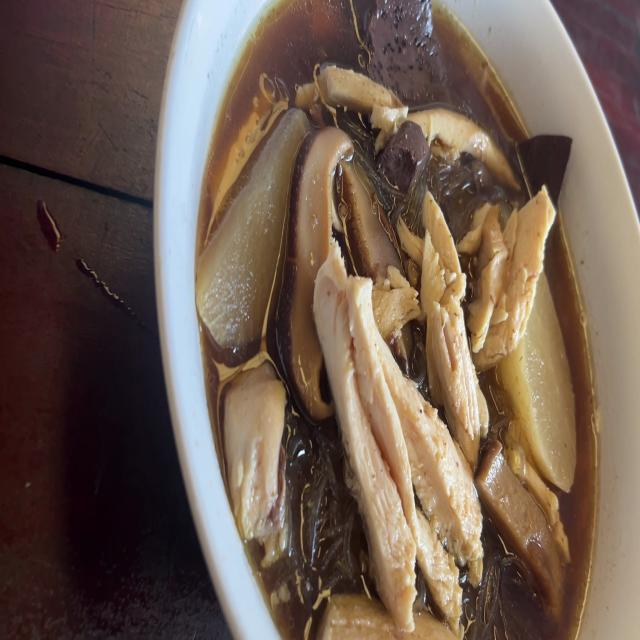boiled_chicken_blood_jelly: (359, 0, 450, 106), (522, 126, 570, 200), (380, 128, 425, 185)
chicken_shredded: (334, 266, 466, 594), (421, 193, 482, 457), (476, 190, 556, 354), (227, 376, 282, 530), (322, 585, 459, 640), (314, 59, 401, 130), (408, 110, 518, 160)
daikon_radish: (197, 105, 295, 356), (513, 276, 576, 485)
noodle: (200, 0, 596, 640)
